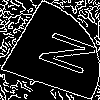N: (25, 25, 100, 77)
